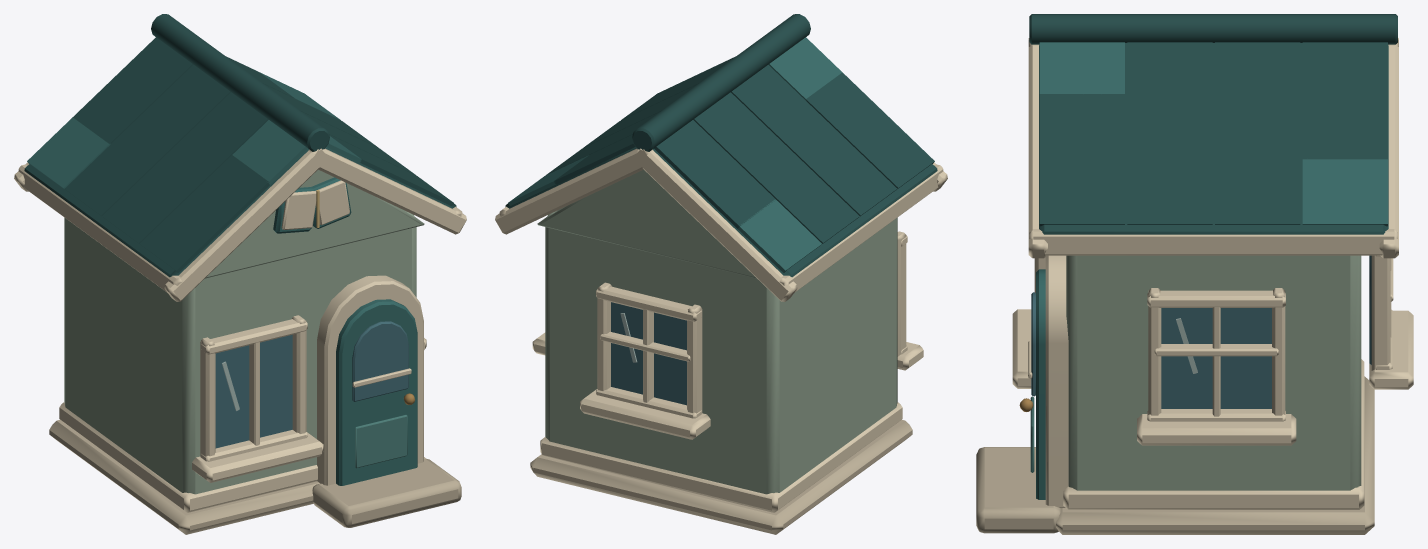
The model's file is bookshop_level_1.glb.
3 views of the same model, side by side, from view 1: azimuth 30°, elevation 25°; view 2: azimuth 150°, elevation 25°; view 3: azimuth 270°, elevation 25° (orthographic). The views are drawn at different scales.
Parts seen in each view (by area): view 1: bookshop_level_1_runtime; view 2: bookshop_level_1_runtime; view 3: bookshop_level_1_runtime.
Part boxes in pixels (<box>): bookshop_level_1_runtime: <box>14,14,466,534</box>; bookshop_level_1_runtime: <box>495,14,947,534</box>; bookshop_level_1_runtime: <box>976,14,1413,534</box>.
Bounding box in the file's own units: 2.78 × 3.38 × 2.97.
